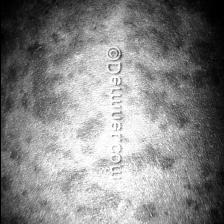Toxin: (34, 0, 108, 224), (130, 0, 204, 224)
